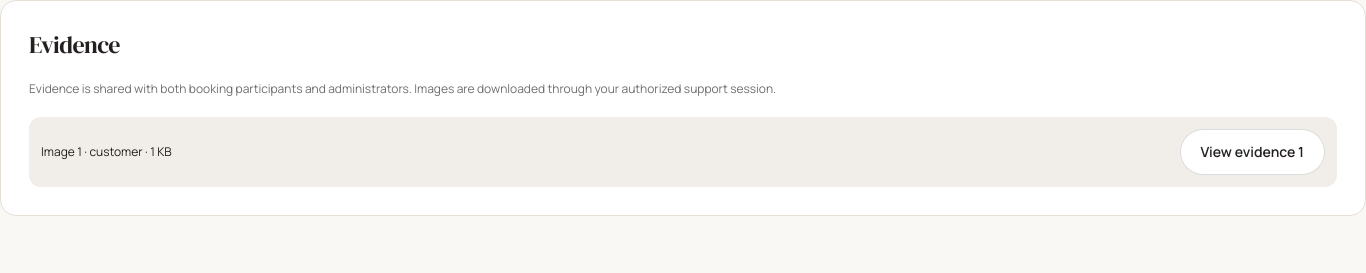
it: private support evidence › does not create a preview URL for forbidden or non-image evidence responses
The width and height of the screenshot is (1366, 273).
Step 1. Click the button "View evidence 1" → {"x": 1252, "y": 152}, box [1180,129,1325,175]
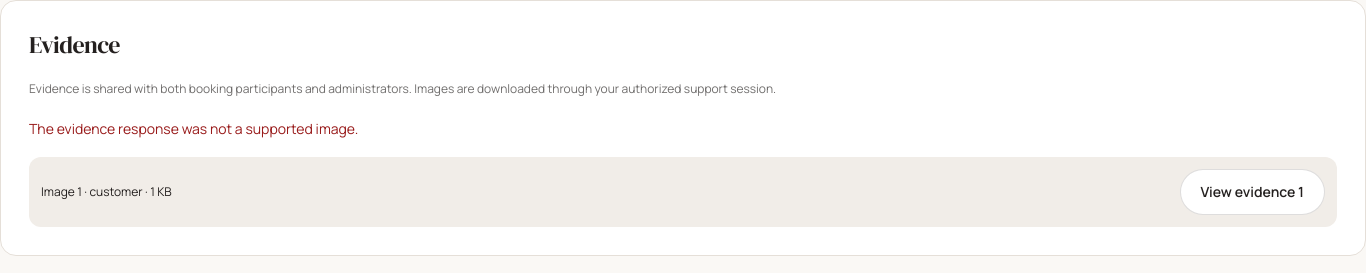
Expected: the message shows "not a supported image", [29,119,358,138]
Step 2. Click the button "View evidence 1" → {"x": 1252, "y": 192}, box [1180,169,1325,215]
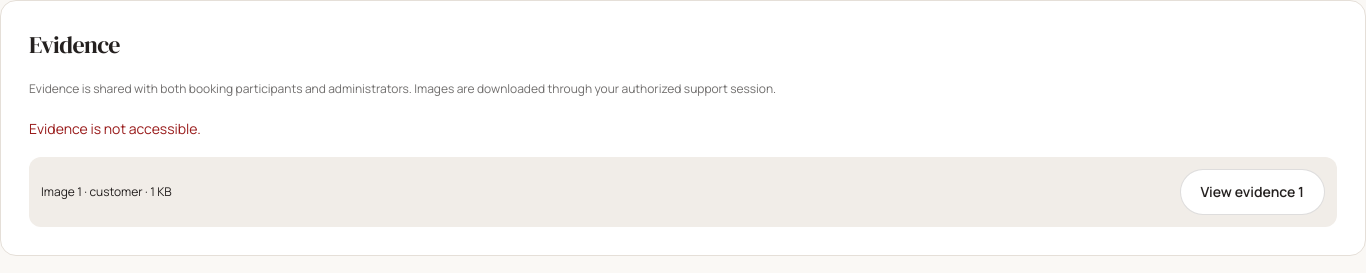
Expected: the message shows "not accessible", [29,119,201,138]
